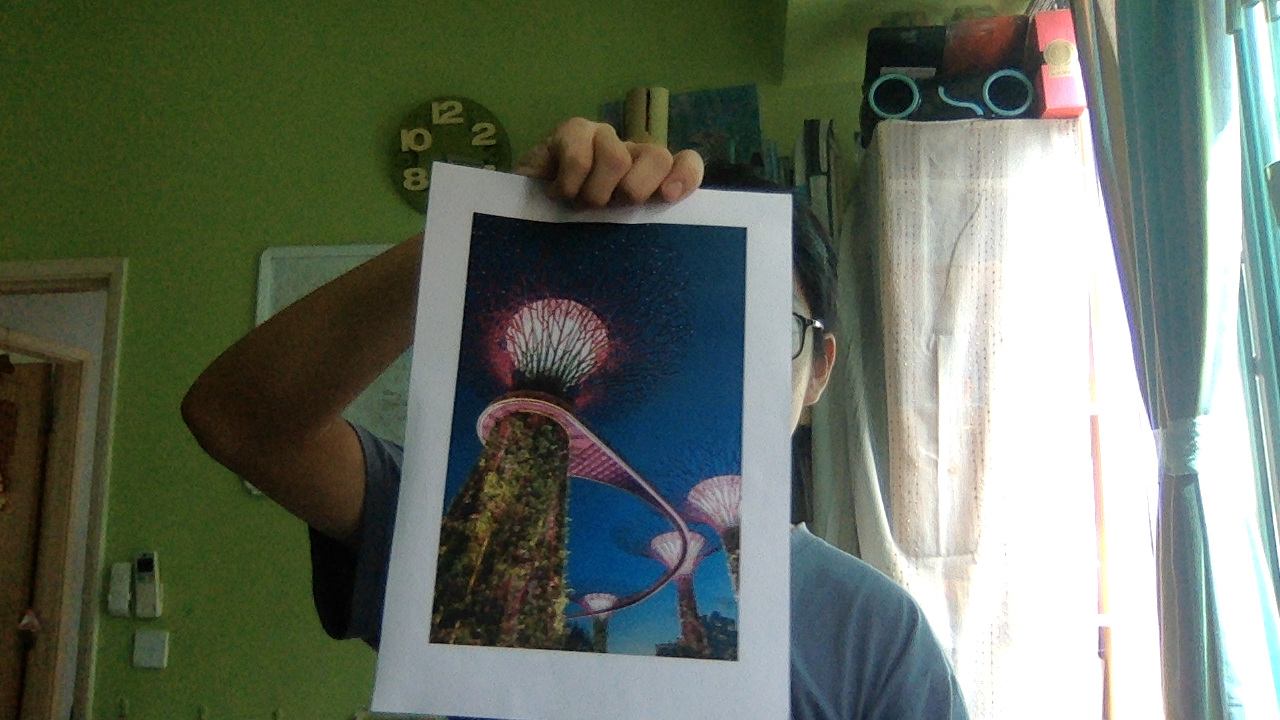GBTB: (423, 204, 752, 665)
